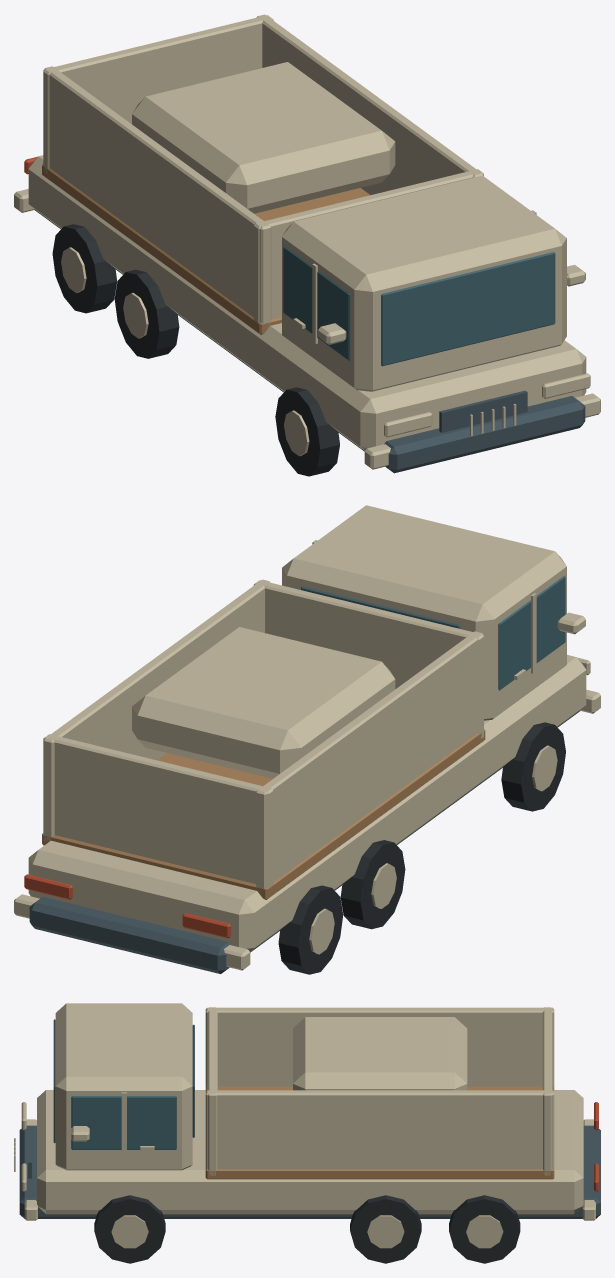
Rendered from vehicle_refuse.glb.
The picture shows the model from 3 angles, top to bottom: view 1: azimuth 30°, elevation 25°; view 2: azimuth 150°, elevation 25°; view 3: azimuth 270°, elevation 25°; orthographic projection. The views are drawn at different scales.
Visible parts, largest first — view 1: vehicle_refuse; view 2: vehicle_refuse; view 3: vehicle_refuse.
Part boxes in pixels (left/top/right/bottom): vehicle_refuse: left=14, top=14, right=600, bottom=476; vehicle_refuse: left=14, top=505, right=600, bottom=974; vehicle_refuse: left=14, top=1003, right=600, bottom=1263.
Size of the model in its own units: 2.87 by 2.34 by 7.07.
